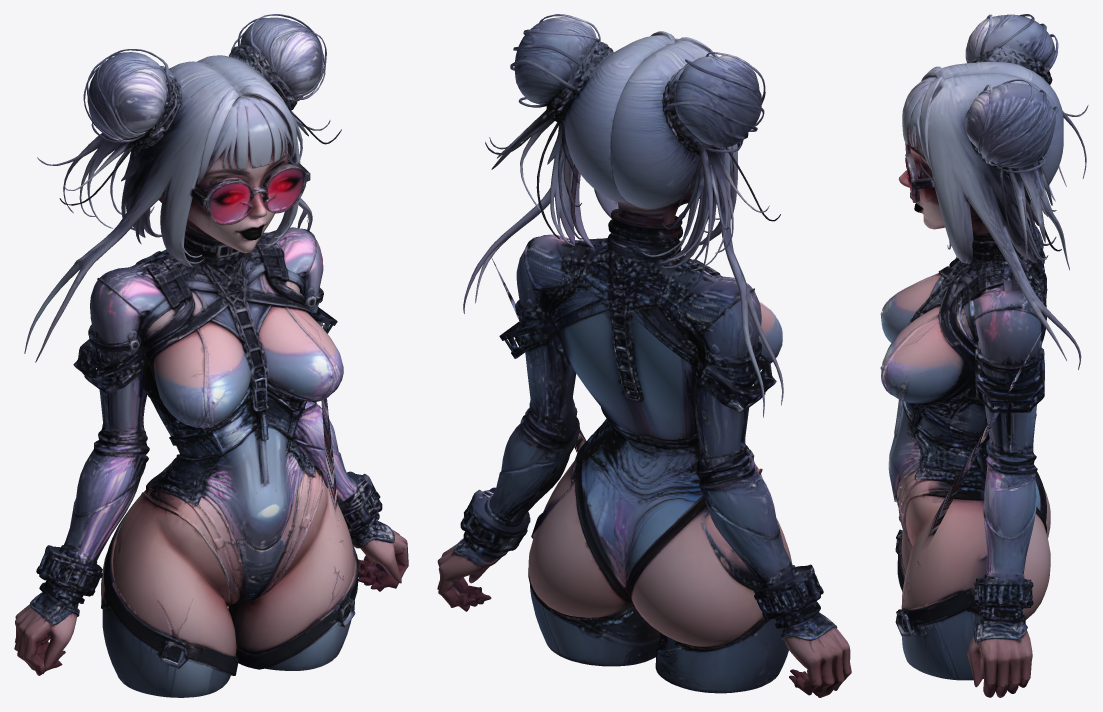
File: girl-5.glb
3 renders of one model, left to right at view 1: azimuth 30°, elevation 25°; view 2: azimuth 150°, elevation 25°; view 3: azimuth 270°, elevation 25°, orthographic. The views are drawn at different scales.
Parts seen in each view (by area): view 1: material; view 2: material; view 3: material.
Boxes of the visible parts, <box> form: material: <box>14,14,408,697</box>; material: <box>437,14,851,697</box>; material: <box>880,14,1088,697</box>.
Size of the model in its own units: 0.7118 by 1.07 by 0.3473.
1 material, 1 textured.
